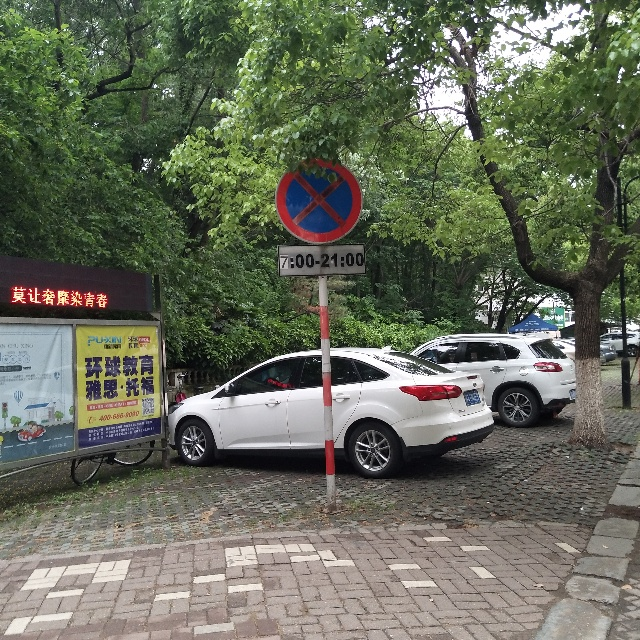stop: (280, 164, 350, 239)
